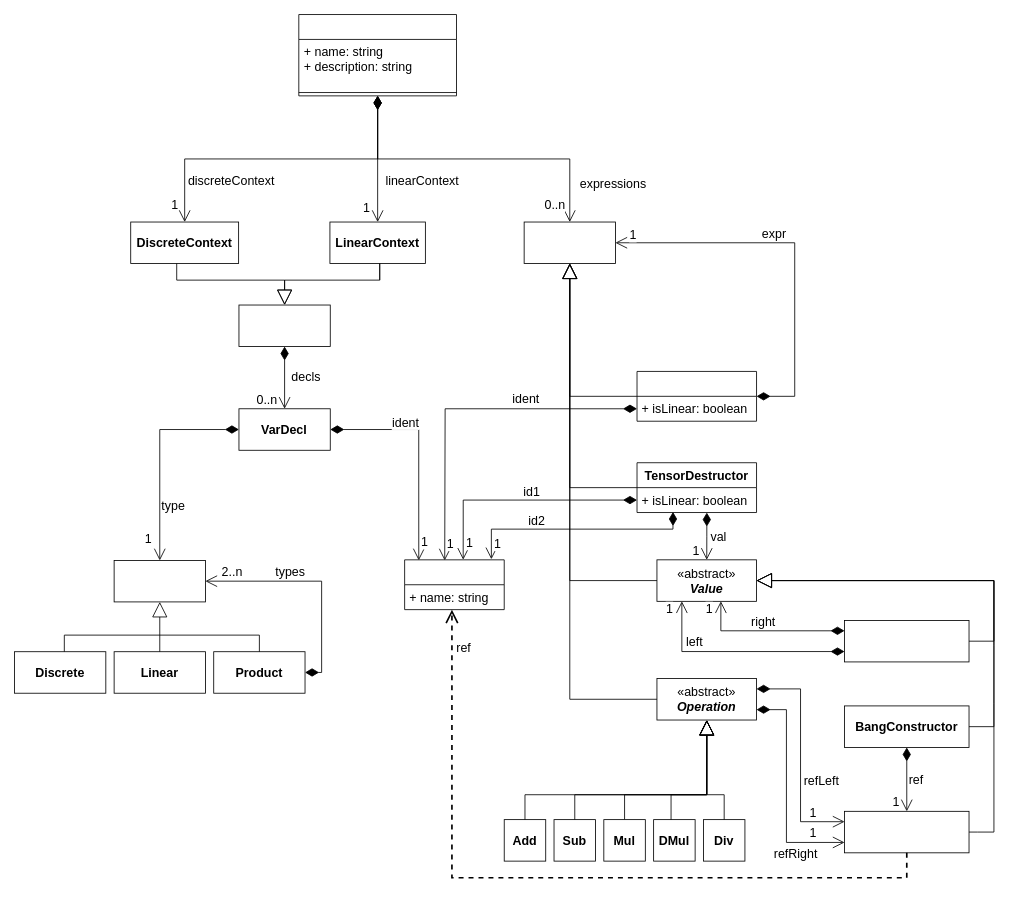
The diagram is 1023 pixels wide and 905 high, and some of its shapes have lost their labels. The box of each missing label's shape, as (x1, y1, x2, y2) in pixels:
IdentifierDecl: (404, 559, 504, 610)
LetBinding: (636, 371, 757, 421)
Program: (298, 14, 456, 96)
TensorPair: (844, 620, 969, 662)
VariableReference: (844, 810, 969, 853)
«abstract» Context: (238, 304, 330, 347)
«abstract» Expression: (523, 221, 615, 264)
«abstract» Type: (113, 560, 205, 602)
